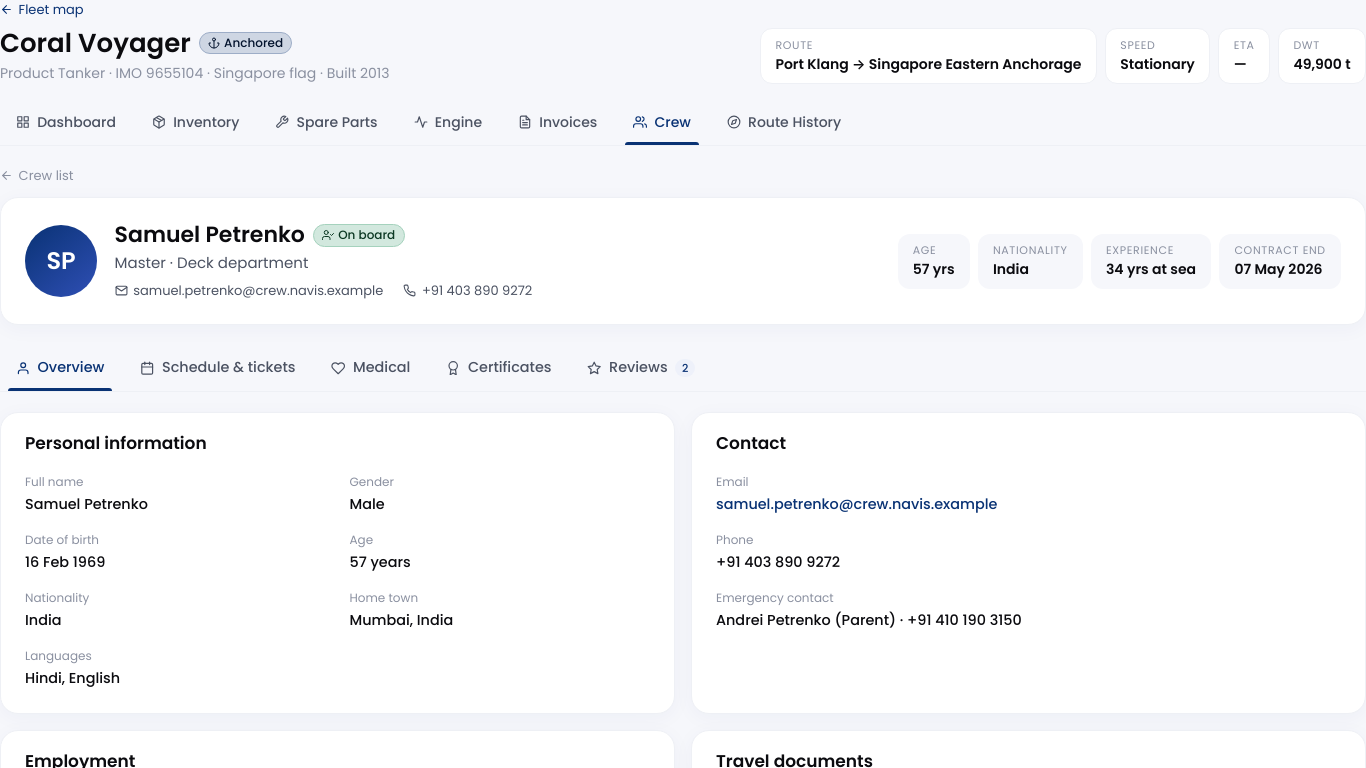
Test: crew member page › switches to the Schedule & tickets tab
What coordinates should you click on to do the following:
click the tab "Schedule & tickets"
I would click on:
 (218, 368)
Its box is left=124, top=345, right=311, bottom=391.
(page scrolled)
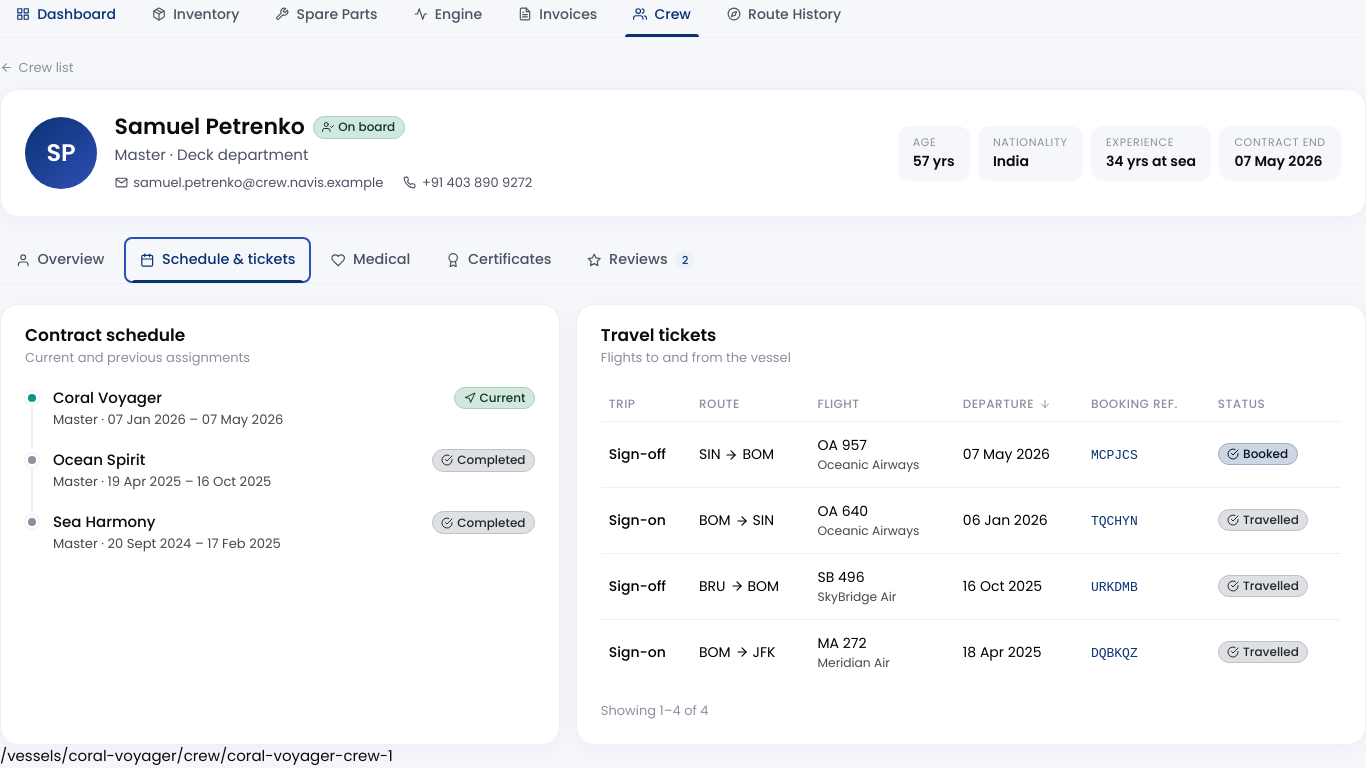
Check: the element "Travel tickets" is shown, box left=576, top=304, right=1365, bottom=746
